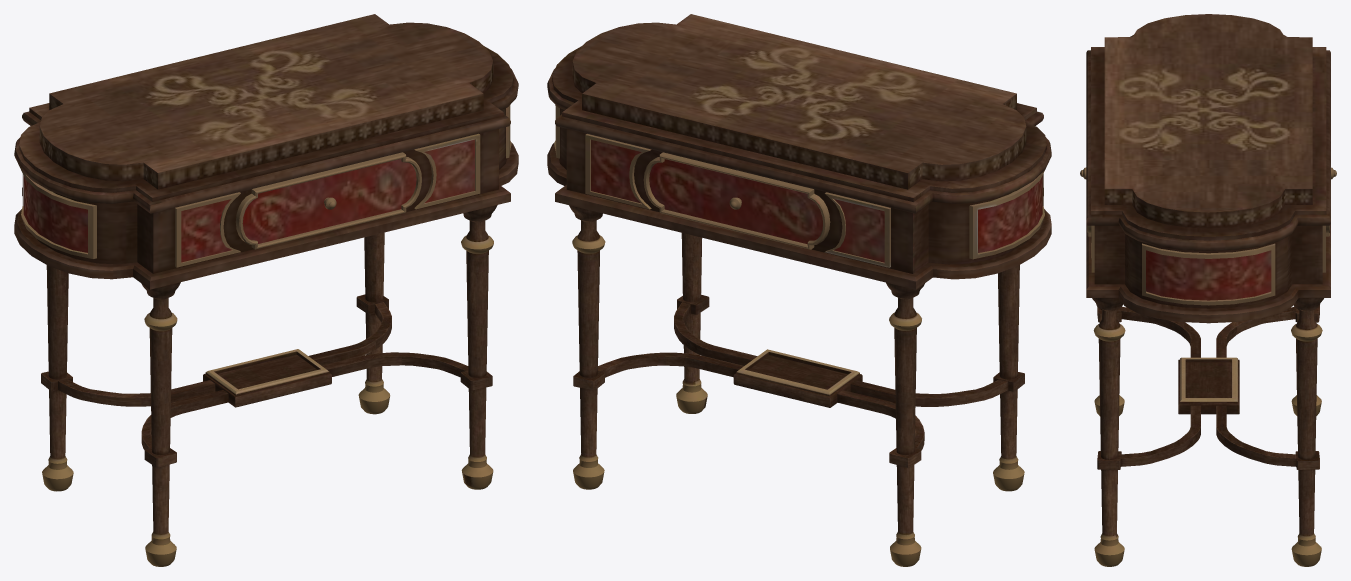
File: table-console.glb
3 views of the same model, side by side, from view 1: azimuth 30°, elevation 25°; view 2: azimuth 150°, elevation 25°; view 3: azimuth 270°, elevation 25° (orthographic). The views are drawn at different scales.
Parts seen in each view (by area): view 1: table-console; view 2: table-console; view 3: table-console.
Boxes of the visible parts, <box> form: table-console: <box>14,14,518,566</box>; table-console: <box>547,14,1051,566</box>; table-console: <box>1080,14,1336,566</box>.
Size of the model in its own units: 0.9484 by 0.76 by 0.4693.
Materials: 3 (3 with a texture image).
